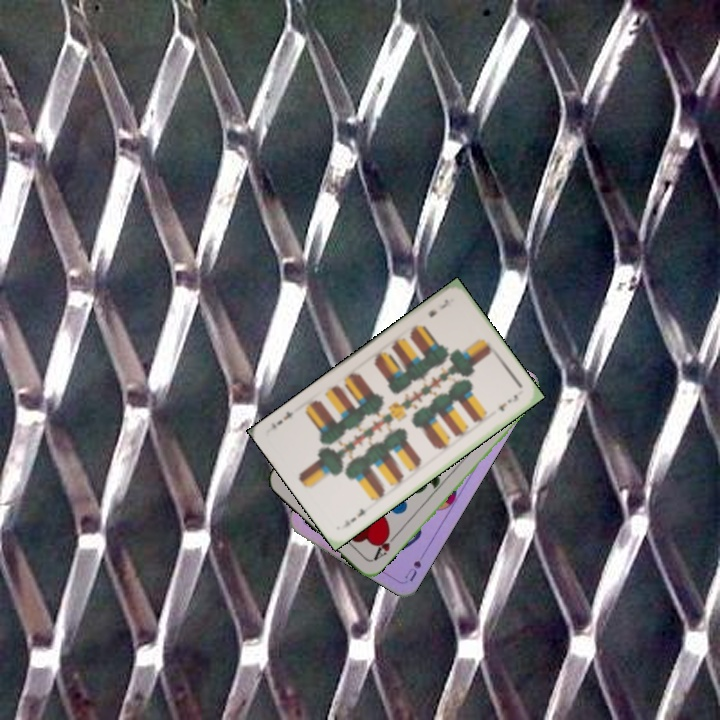E7: (337, 504, 368, 531), (424, 295, 451, 320)
HA: (369, 528, 400, 564)
SU: (401, 556, 424, 584)
